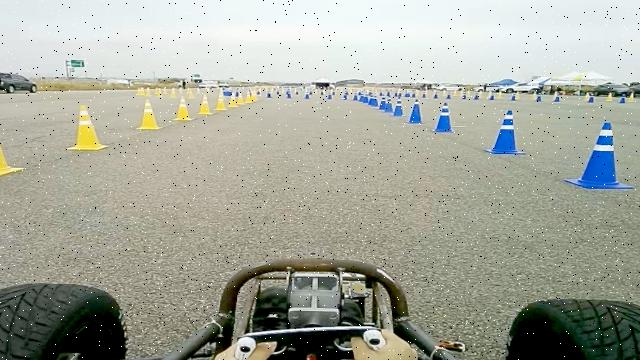blue cone: (564, 122, 634, 190), (484, 109, 526, 155), (432, 101, 456, 133), (406, 99, 426, 124), (392, 97, 405, 117)
yellow cone: (66, 105, 110, 151), (0, 112, 25, 176), (136, 98, 162, 130), (174, 96, 194, 121), (198, 94, 213, 115), (215, 93, 228, 110), (228, 93, 238, 107), (237, 93, 245, 105), (246, 92, 254, 102)
